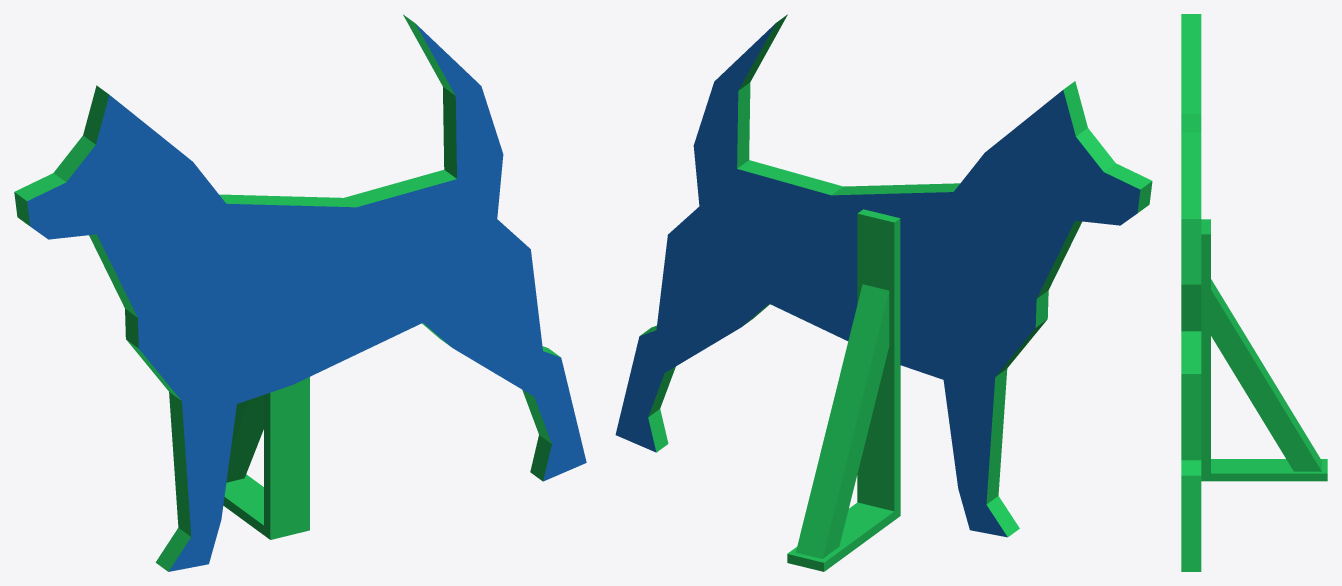
The model's file is SM_plywood_fence_2.fbx.
3 renders of one model, left to right at view 1: azimuth 30°, elevation 25°; view 2: azimuth 150°, elevation 25°; view 3: azimuth 270°, elevation 25°, orthographic. The views are drawn at different scales.
Parts seen in each view (by area): view 1: Cube_38; view 2: Cube_38; view 3: Cube_38.
Part boxes in pixels (box(x1,y1,x2,y2)): Cube_38: box(14, 14, 586, 571); Cube_38: box(615, 14, 1152, 571); Cube_38: box(1181, 14, 1327, 571).
Bounding box in the file's own units: 100 × 85.16 × 29.23.
